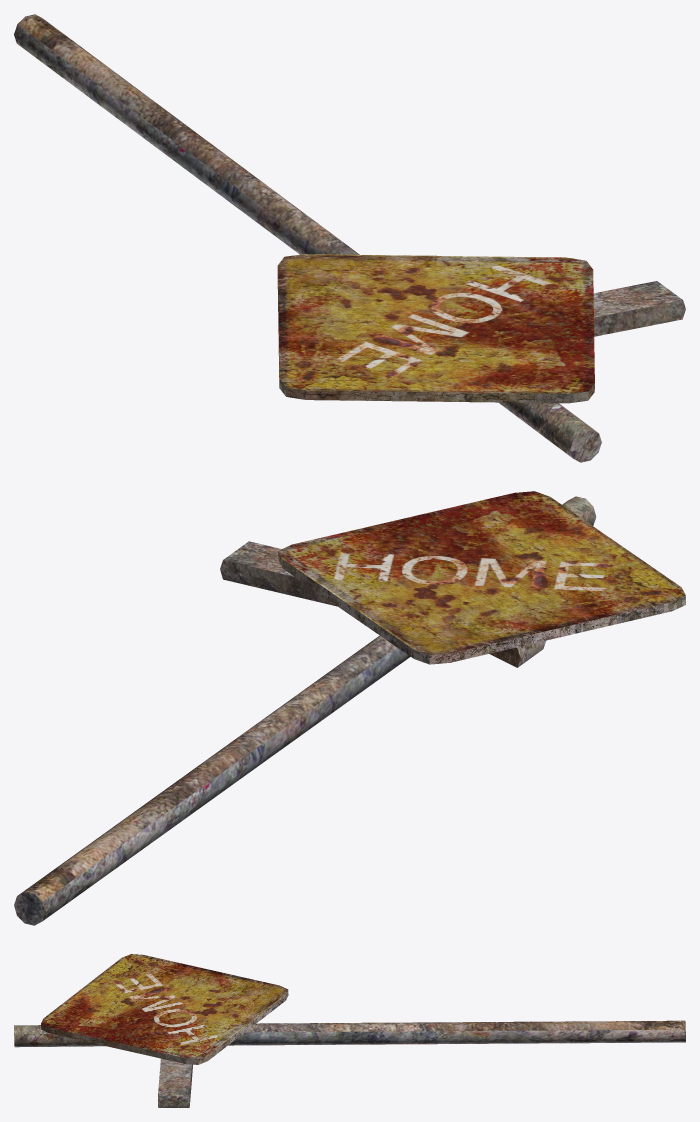
Rendered from home_sign.FBX.
The picture shows the model from 3 angles, top to bottom: view 1: azimuth 30°, elevation 25°; view 2: azimuth 150°, elevation 25°; view 3: azimuth 270°, elevation 25°; orthographic projection. The views are drawn at different scales.
Parts seen in each view (by area): view 1: Box001, Cylinder002; view 2: Box001, Cylinder002; view 3: Box001, Cylinder002.
Boxes of the visible parts, bbox=[...] form: Box001: bbox=[277, 254, 594, 403]; Cylinder002: bbox=[14, 14, 685, 462]; Box001: bbox=[278, 491, 685, 664]; Cylinder002: bbox=[14, 496, 596, 925]; Box001: bbox=[41, 954, 288, 1064]; Cylinder002: bbox=[14, 1020, 685, 1107].
Size of the model in its own units: 5.09 by 0.6559 by 11.62.
Materials: 2 (2 with a texture image).
